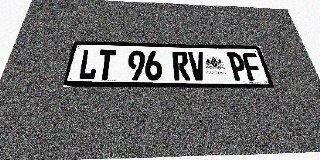6: (145, 51, 162, 80)
9: (128, 50, 145, 80)
F: (241, 53, 264, 81)
L: (77, 49, 99, 80)
P: (227, 52, 249, 81)
R: (172, 51, 191, 80)
T: (96, 50, 116, 80)
V: (188, 52, 207, 81)
